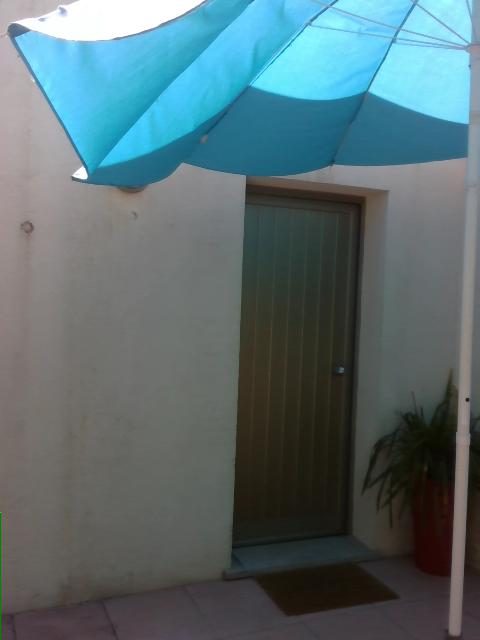door: (226, 176, 386, 568)
